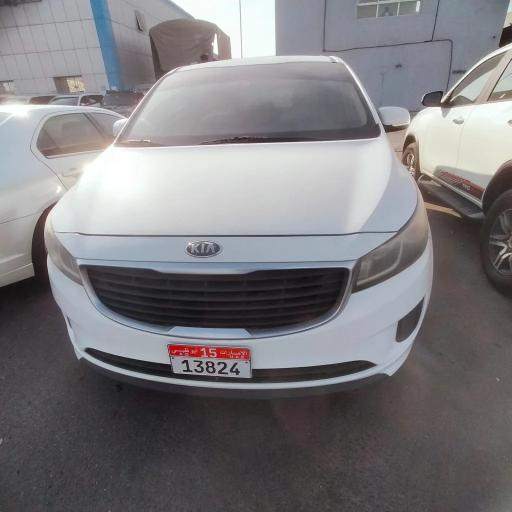license-plates: (167, 344, 251, 378)
